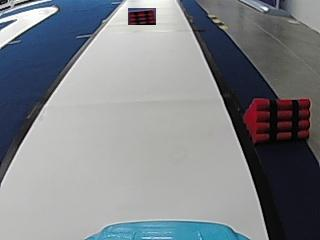bomb: (246, 99, 312, 141)
